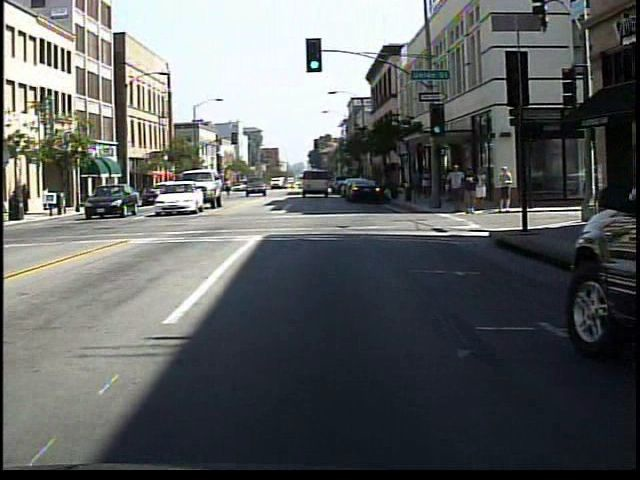person: (444, 162, 465, 214), (460, 165, 481, 216), (494, 163, 514, 215), (475, 164, 492, 215), (416, 164, 434, 206), (220, 174, 237, 202)
